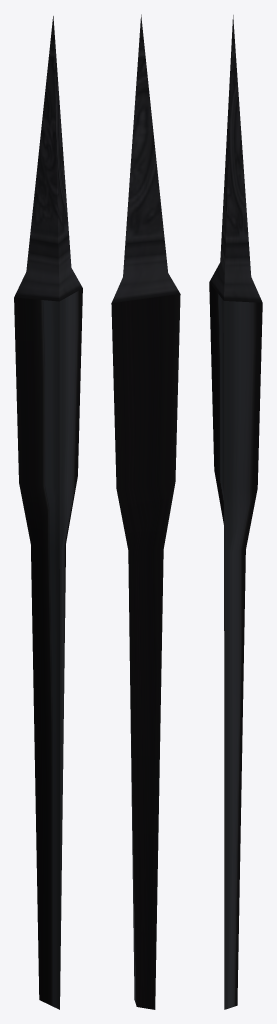
File: PAST_GrandfatherClockMinuteHand.fbx
3 renders of one model, left to right at view 1: azimuth 30°, elevation 25°; view 2: azimuth 210°, elevation 25°; view 3: azimuth 330°, elevation 25°, orthographic.
Parts seen in each view (by area): view 1: pCone8; view 2: pCone8; view 3: pCone8.
Part boxes in pixels (<box>): pCone8: <box>14,16,82,1009</box>; pCone8: <box>111,14,180,1009</box>; pCone8: <box>209,15,262,1009</box>.
Size of the model in its own units: 0.2461 by 3.8 by 0.1076.
1 material, 1 textured.
